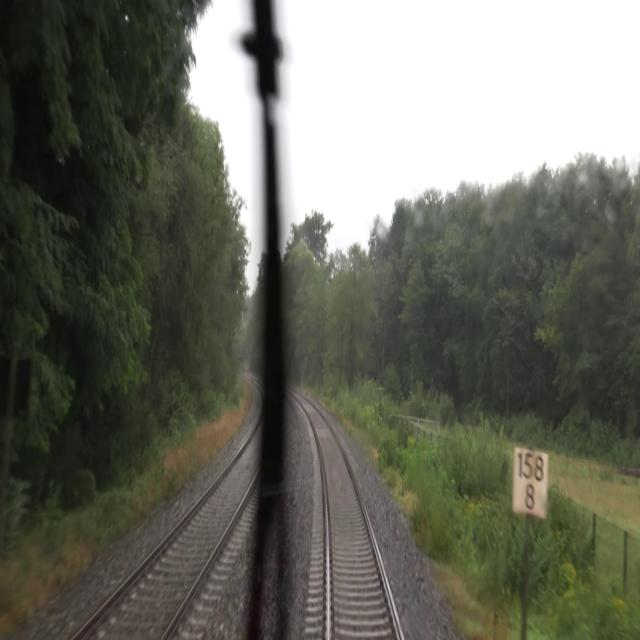rail-track: (77, 439, 251, 639), (303, 401, 399, 639)
